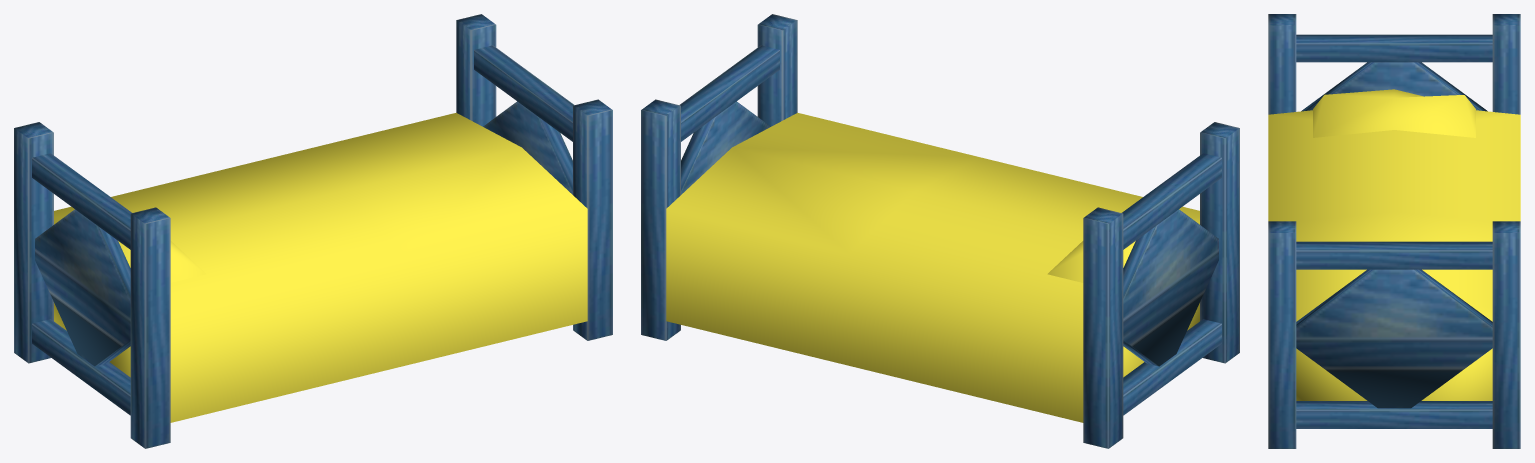
File: rmk_blu_bedS.dae
3 renders of one model, left to right at view 1: azimuth 30°, elevation 25°; view 2: azimuth 150°, elevation 25°; view 3: azimuth 270°, elevation 25°, orthographic. The views are drawn at different scales.
Parts seen in each view (by area): view 1: rmk_blu_bedS; view 2: rmk_blu_bedS; view 3: rmk_blu_bedS.
Boxes of the visible parts, x1,y1,x2,y2 form: rmk_blu_bedS: [14, 14, 612, 448]; rmk_blu_bedS: [641, 14, 1239, 448]; rmk_blu_bedS: [1268, 14, 1520, 448].
Size of the model in its own units: 59.2 by 27.2 by 28.8.
Materials: 2 (2 with a texture image).
